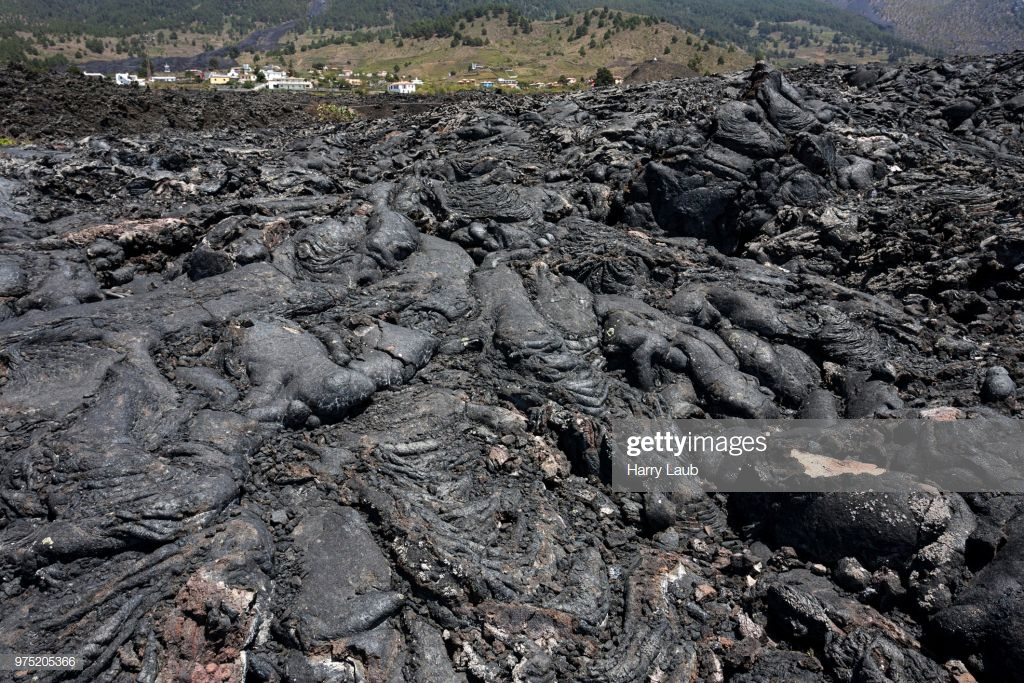volcanic_rock: (5, 179, 555, 650), (576, 95, 989, 393), (339, 456, 568, 682), (589, 543, 995, 669), (200, 293, 452, 443)
